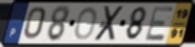0: (21, 6, 48, 41)
8: (46, 4, 71, 43), (123, 6, 148, 42)
E: (144, 6, 176, 43)
O: (73, 6, 98, 41)
X: (92, 5, 126, 43)
